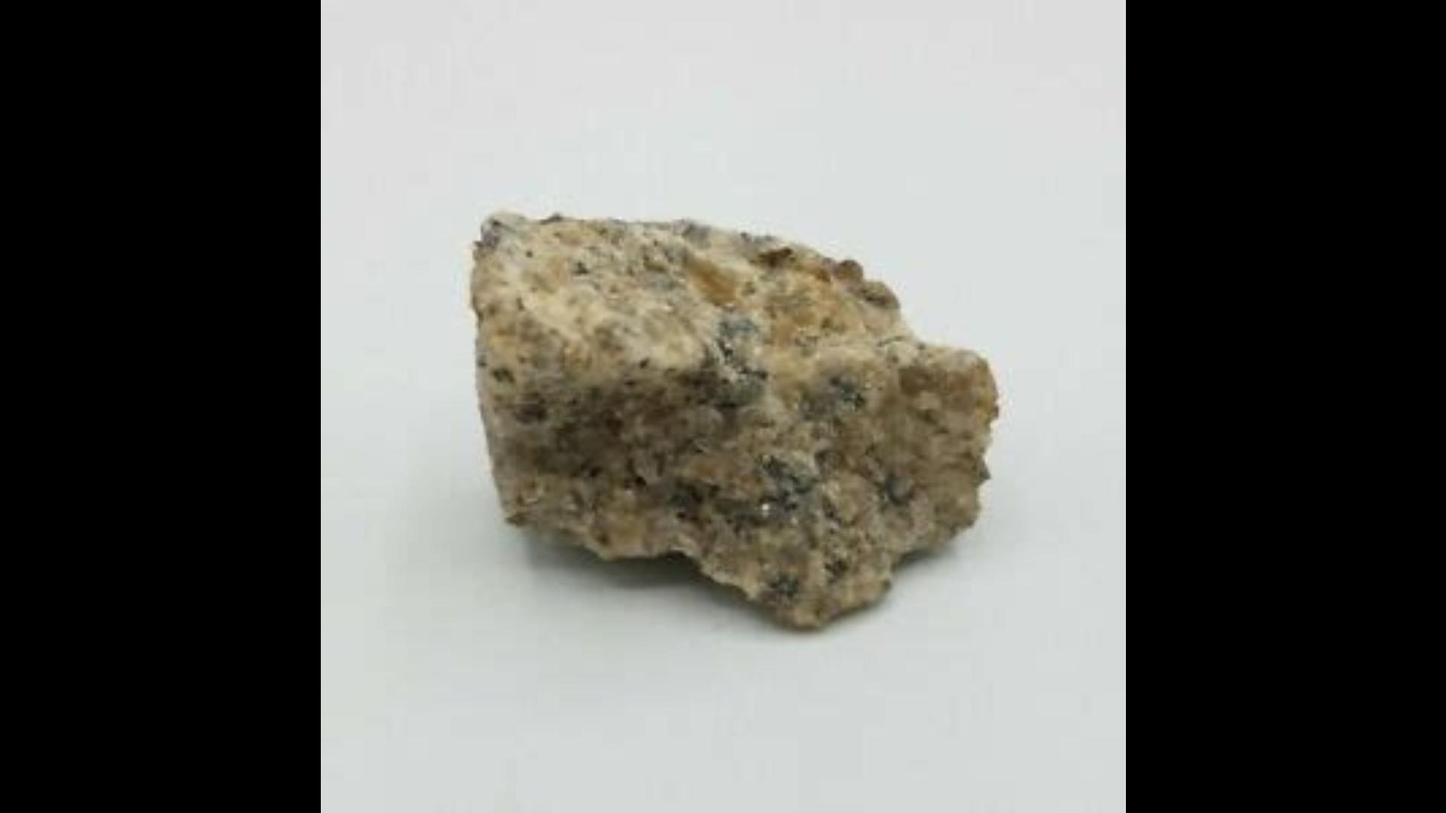rock: (472, 214, 995, 626)
